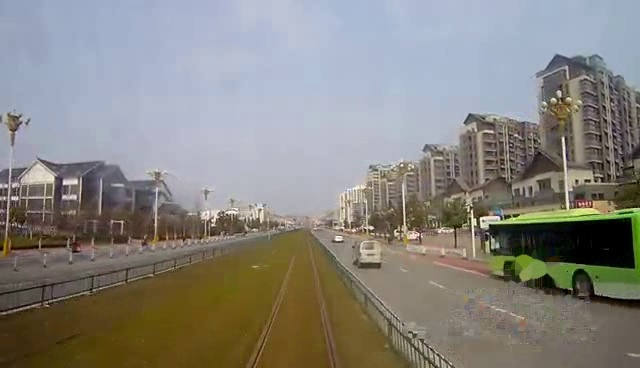bus: (484, 205, 640, 311)
car: (351, 235, 389, 270)
